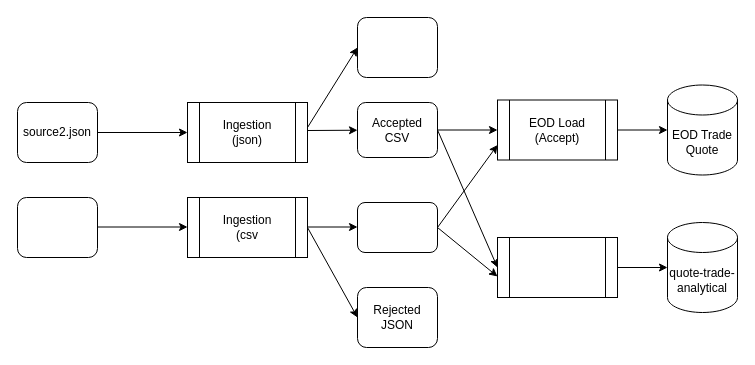
The diagram is 755 pixels wide and 365 high, and some of its shapes have lost their labels. The box of each missing label's shape, as (x1, y1, x2, y2) in pixels:
Accepted JSON: (356, 202, 438, 252)
Analytics ETL: (496, 236, 618, 298)
Rejected CSV: (356, 16, 438, 78)
source1.csv: (16, 196, 98, 258)
